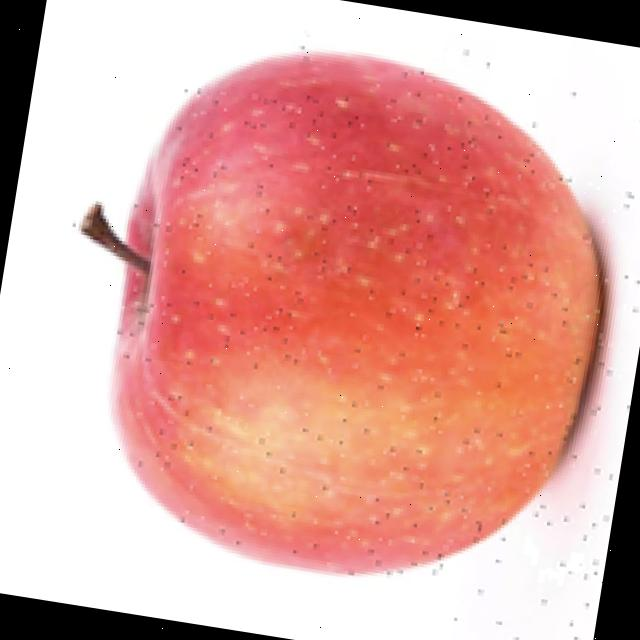apple: (69, 44, 632, 582)
